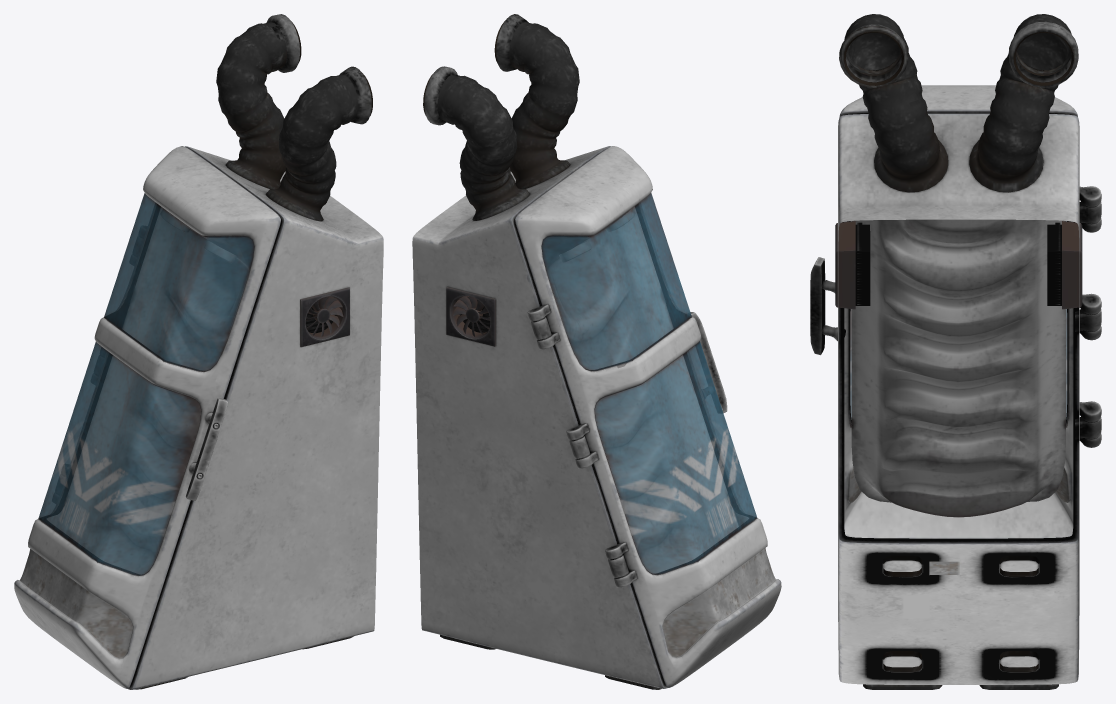
Rendered from SM_Cryo_Pod.fbx.
3 views of the same model, side by side, from view 1: azimuth 30°, elevation 25°; view 2: azimuth 150°, elevation 25°; view 3: azimuth 270°, elevation 25° (orthographic). The views are drawn at different scales.
Parts seen in each view (by area): view 1: Cryo_Pod; view 2: Cryo_Pod; view 3: Cryo_Pod.
Boxes of the visible parts, x1,y1,x2,y2 form: Cryo_Pod: [14, 14, 383, 689]; Cryo_Pod: [412, 14, 781, 689]; Cryo_Pod: [810, 14, 1101, 689].
Size of the model in its own units: 310 by 574 by 227.
